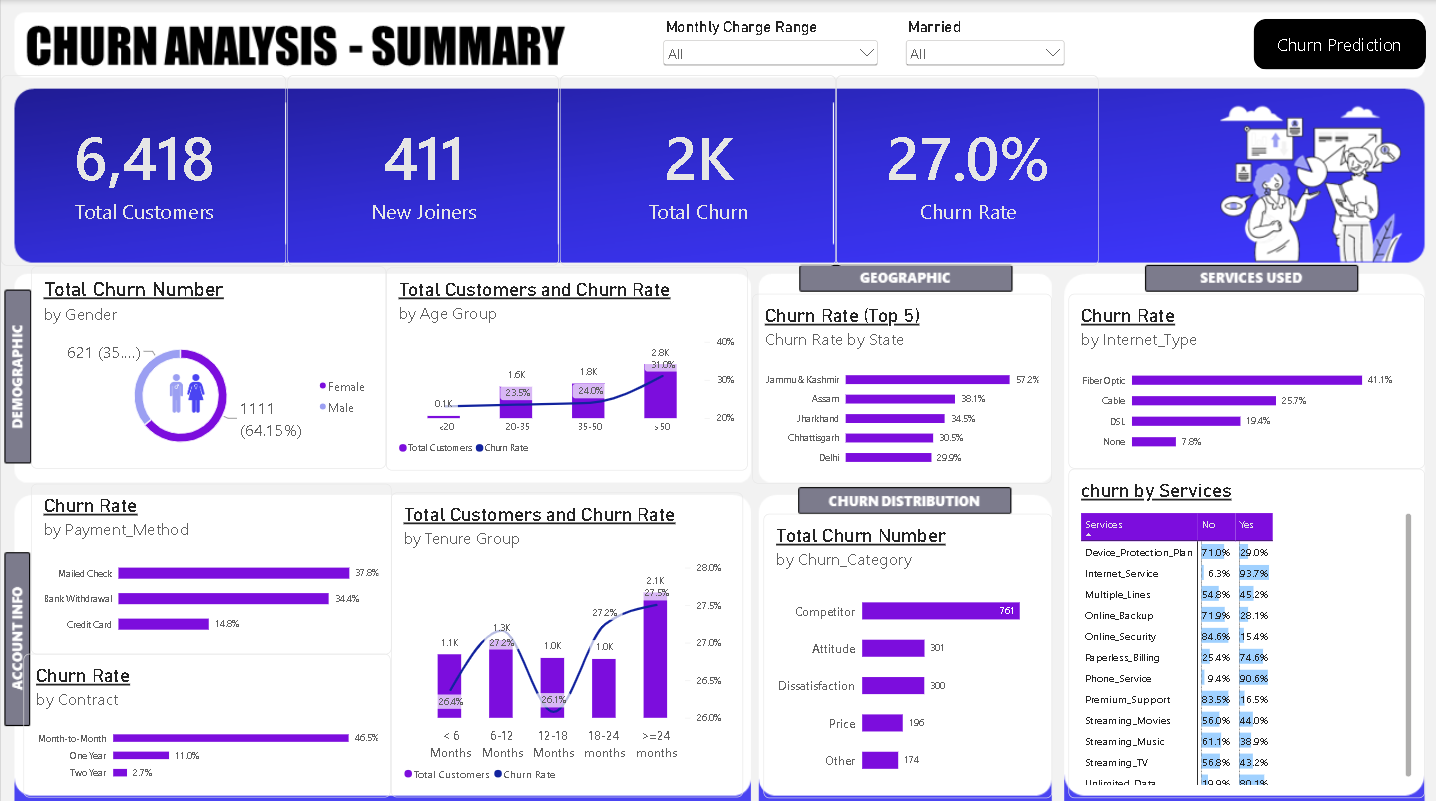

What the dashboard file says about the page in this screenshot:
{"tool":"powerbi","page":{"name":"Summary","canvas":[1920,1080],"ordinal":0},"visuals":[{"type":"image","box":[191.8,490.4,114,67],"z":0},{"type":"cardVisual","fields":{"Data":["Tbl_Measures.New Joiners"]},"box":[381.8,99.5,363.7,255.2],"z":1000},{"type":"cardVisual","fields":{"Data":["Tbl_Measures.Total Churn"]},"box":[745.6,99.5,369.2,255.2],"z":2000},{"type":"cardVisual","fields":{"Data":["Tbl_Measures.Churn Rate"]},"box":[1114.8,99.5,351.1,255.2],"z":3000},{"type":"donutChart","fields":{"Category":["prod_Churn.Gender"],"Y":["Tbl_Measures.Total Churn Number"]},"box":[40.3,355,474.1,270.3],"z":4000},{"type":"lineStackedColumnComboChart","fields":{"Category":["mapping_AgeGrp.Age Group"],"Y":["Tbl_Measures.Total Customers"],"Y2":["Tbl_Measures.Churn Rate"]},"box":[514.4,357.1,483.2,271.4],"z":5000},{"type":"clusteredBarChart","fields":{"Category":["prod_Churn.Payment_Method"],"Y":["Tbl_Measures.Churn Rate"]},"box":[39.8,646,481.4,228],"z":6000},{"type":"clusteredBarChart","fields":{"Category":["prod_Churn.Contract"],"Y":["Tbl_Measures.Churn Rate"]},"box":[30.8,874.1,490.4,191.8],"z":7000},{"type":"lineStackedColumnComboChart","fields":{"Category":["mapping_TenureGrp.Tenure Group"],"Y":["Tbl_Measures.Total Customers"],"Y2":["Tbl_Measures.Churn Rate"]},"box":[521.2,658.7,470.5,407.2],"z":8000},{"type":"clusteredBarChart","title":"Churn Rate (Top 5) ","fields":{"Category":["prod_Churn.State"],"Y":["Tbl_Measures.Churn Rate"]},"box":[1004.4,392.7,399.9,253.4],"z":9000},{"type":"clusteredBarChart","fields":{"Category":["prod_Churn.Churn_Category"],"Y":["Tbl_Measures.Total Churn Number"]},"box":[1018.8,685.9,385.5,380],"z":10000},{"type":"clusteredBarChart","fields":{"Category":["prod_Churn.Internet_Type"],"Y":["Tbl_Measures.Churn Rate"]},"box":[1426,392.7,475.9,233.4],"z":11000},{"type":"pivotTable","title":"churn by Services","fields":{"Rows":["prod_Services.Services"],"Columns":["prod_Services.Status"],"Values":["Sum(prod_Services.Churn Status)"]},"box":[1426,626.1,475.9,439.7],"z":12000},{"type":"slicer","fields":{"Values":["prod_Services.Monthly Charge Status"]},"box":[879.5,24.2,296.5,82.7],"z":13000},{"type":"slicer","fields":{"Values":["prod_Services.Married"]},"box":[1204.3,24.2,221.9,82.7],"z":14000},{"type":"cardVisual","fields":{"Data":["Tbl_Measures.Total Customers"]},"box":[0,99.5,381.8,255.2],"z":15000},{"type":"shape","box":[1673.4,24.7,230.5,67.9],"z":16000}]}

Visuals, with their boxes in screenshot pixels (x1, y1, x2, y2), scaled from the page's 1920x1080 canvas onto the 1436x801 screenshot:
image: [x1=143, y1=364, x2=229, y2=413]
cardVisual - Tbl_Measures.New Joiners: [x1=286, y1=74, x2=558, y2=263]
cardVisual - Tbl_Measures.Total Churn: [x1=558, y1=74, x2=834, y2=263]
cardVisual - Tbl_Measures.Churn Rate: [x1=834, y1=74, x2=1096, y2=263]
donutChart - prod_Churn.Gender x Tbl_Measures.Total Churn Number: [x1=30, y1=263, x2=385, y2=464]
lineStackedColumnComboChart - mapping_AgeGrp.Age Group x Tbl_Measures.Total Customers: [x1=385, y1=265, x2=746, y2=466]
clusteredBarChart - prod_Churn.Payment_Method x Tbl_Measures.Churn Rate: [x1=30, y1=479, x2=390, y2=648]
clusteredBarChart - prod_Churn.Contract x Tbl_Measures.Churn Rate: [x1=23, y1=648, x2=390, y2=791]
lineStackedColumnComboChart - mapping_TenureGrp.Tenure Group x Tbl_Measures.Total Customers: [x1=390, y1=489, x2=742, y2=791]
"Churn Rate (Top 5) " clusteredBarChart: [x1=751, y1=291, x2=1050, y2=479]
clusteredBarChart - prod_Churn.Churn_Category x Tbl_Measures.Total Churn Number: [x1=762, y1=509, x2=1050, y2=791]
clusteredBarChart - prod_Churn.Internet_Type x Tbl_Measures.Churn Rate: [x1=1067, y1=291, x2=1422, y2=464]
"churn by Services" pivotTable: [x1=1067, y1=464, x2=1422, y2=790]
slicer - prod_Services.Monthly Charge Status: [x1=658, y1=18, x2=880, y2=79]
slicer - prod_Services.Married: [x1=901, y1=18, x2=1067, y2=79]
cardVisual - Tbl_Measures.Total Customers: [x1=0, y1=74, x2=286, y2=263]
shape: [x1=1252, y1=18, x2=1424, y2=69]
